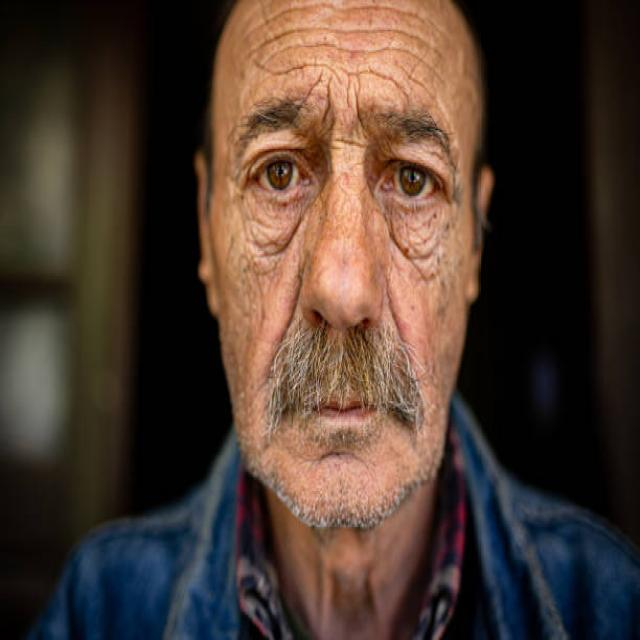Wrinkles: (379, 49, 445, 84), (276, 64, 341, 84), (345, 8, 426, 22), (275, 28, 405, 36), (431, 95, 453, 131), (292, 41, 346, 48), (308, 72, 322, 95), (255, 60, 275, 74), (417, 81, 431, 95), (353, 71, 382, 77), (263, 51, 275, 64), (401, 89, 410, 105), (324, 99, 330, 122), (358, 109, 364, 130), (348, 76, 351, 107), (327, 77, 331, 99), (393, 79, 401, 89), (275, 45, 287, 51), (357, 92, 359, 103), (410, 78, 417, 81), (346, 48, 359, 49), (357, 103, 358, 109), (287, 44, 292, 45), (359, 49, 379, 49), (359, 79, 359, 92)
